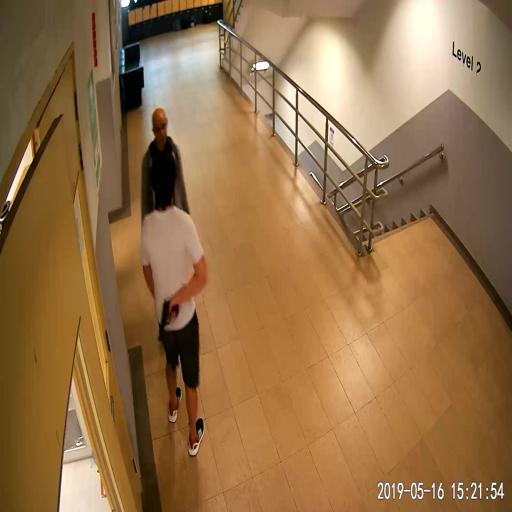pistol: (158, 300, 178, 340)
